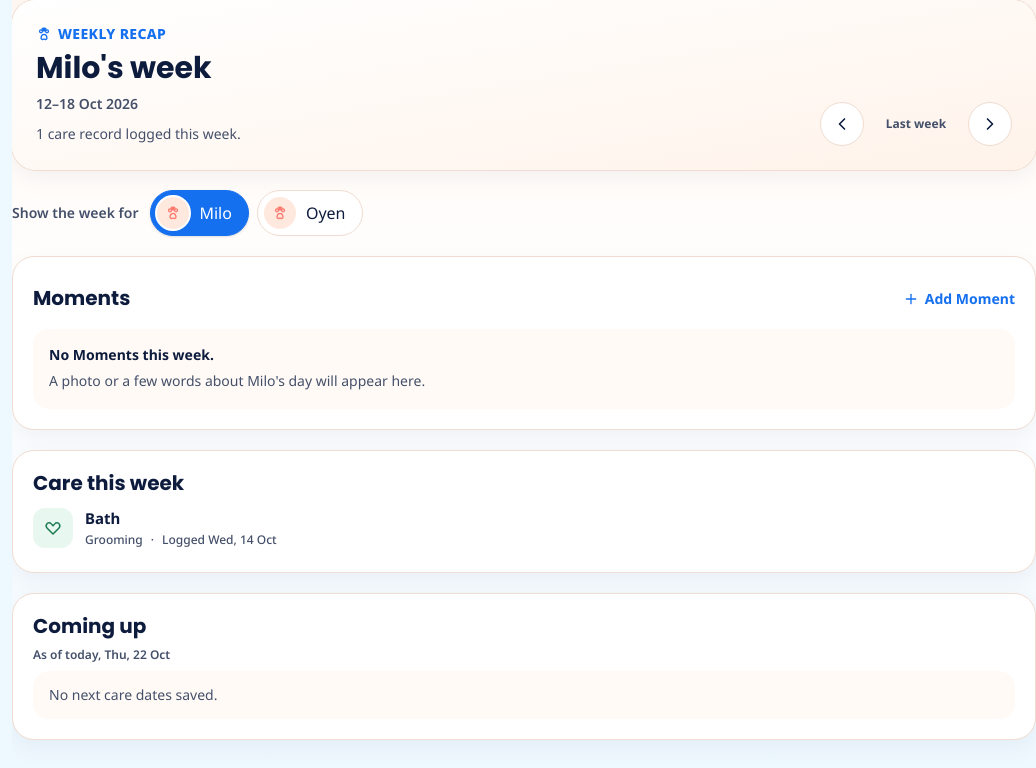
Test: Weekly Recap revalidation › drops a refresh for a pet that is no longer shown
This screenshot has width=1036, height=768.
Step 1. Click the button "Oyen" → point(310, 212), box [257,190,362,236]
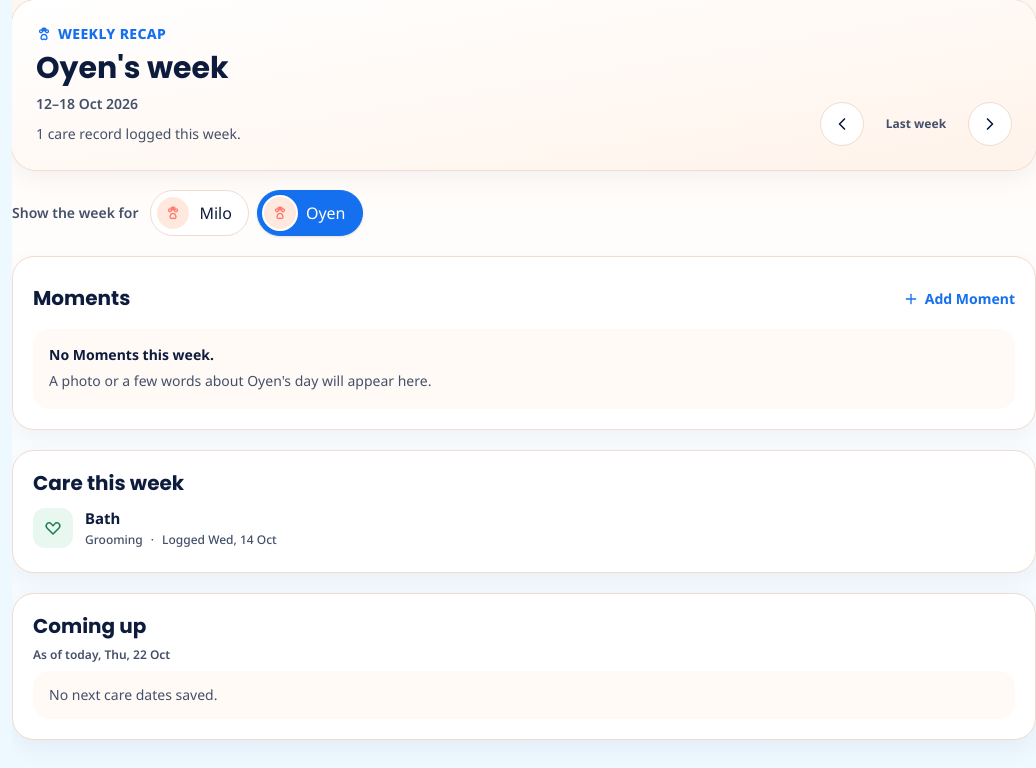
Expected: the heading "Oyen's week" is shown, [36,50,241,88]
